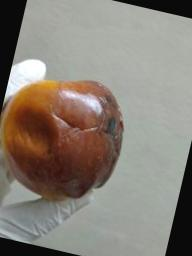Apple Rotten: (0, 52, 149, 216)
